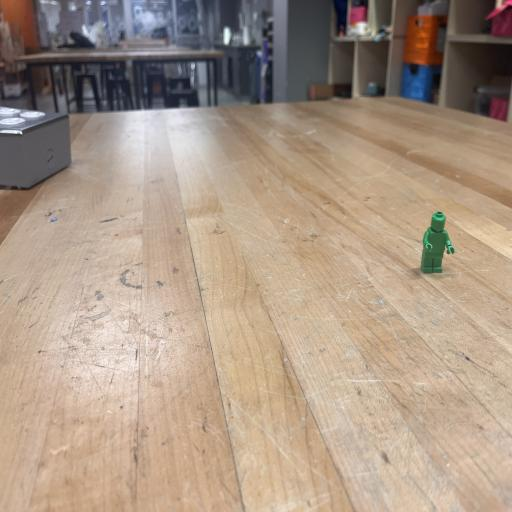Lego-Minifig: (420, 211, 455, 273)
